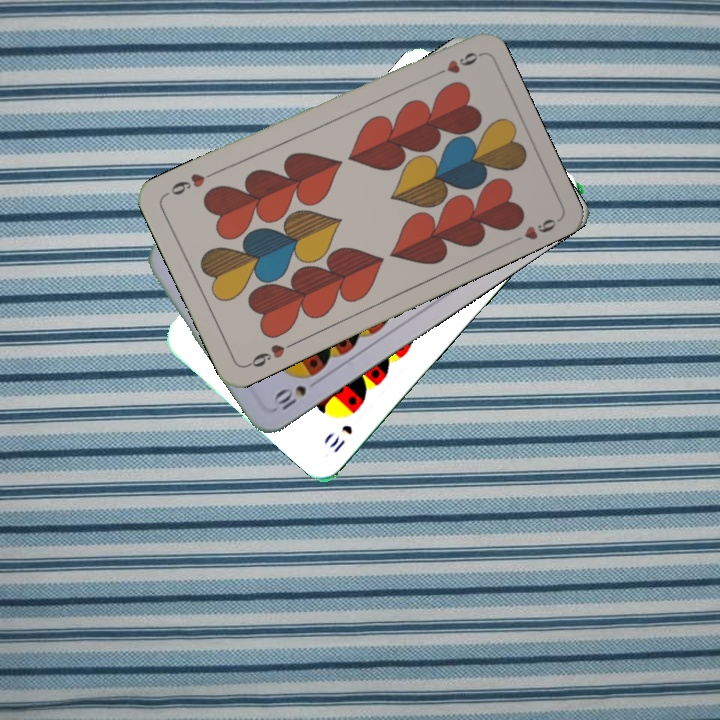H9: (426, 48, 482, 81), (241, 338, 297, 370)
S10: (269, 374, 323, 413), (325, 420, 355, 456)
